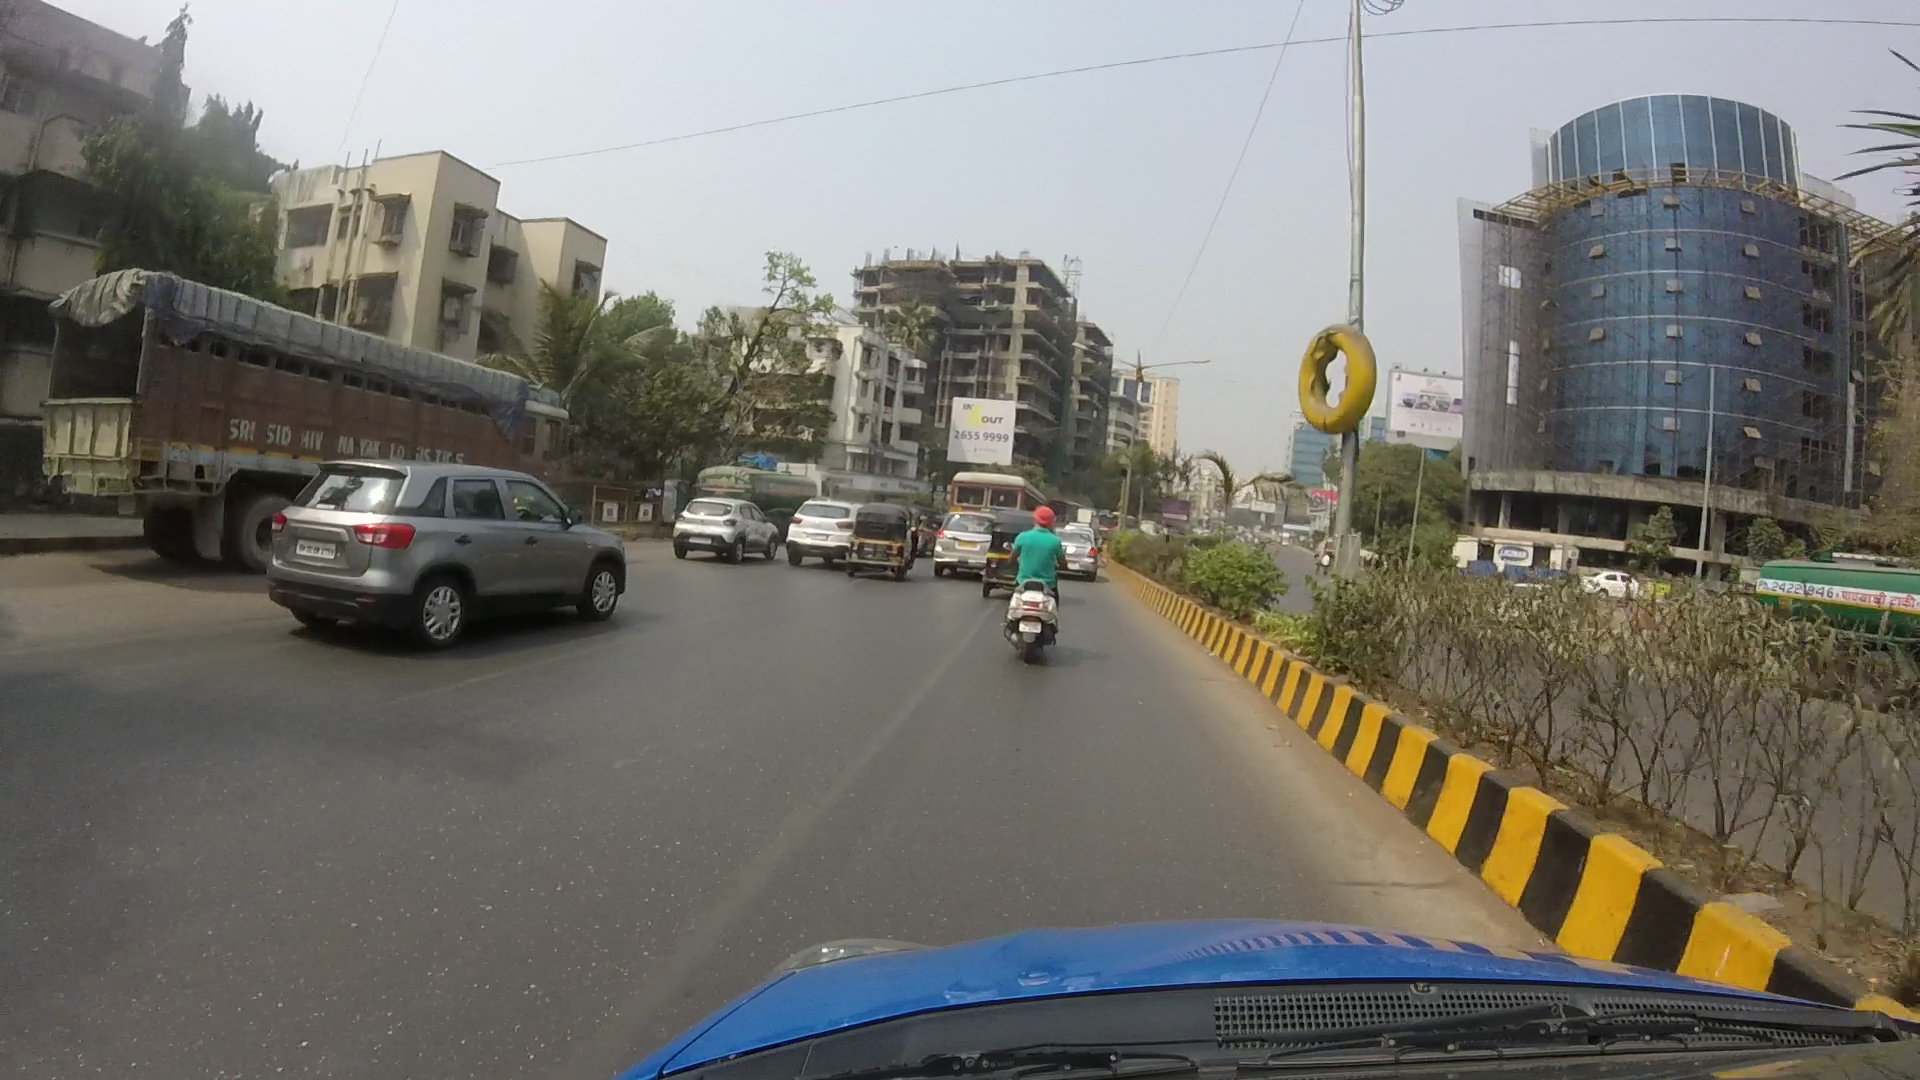bike/scooter: (1002, 495, 1063, 663)
car: (247, 451, 616, 657), (675, 483, 764, 572), (790, 487, 893, 551)
truck: (58, 269, 593, 560)
